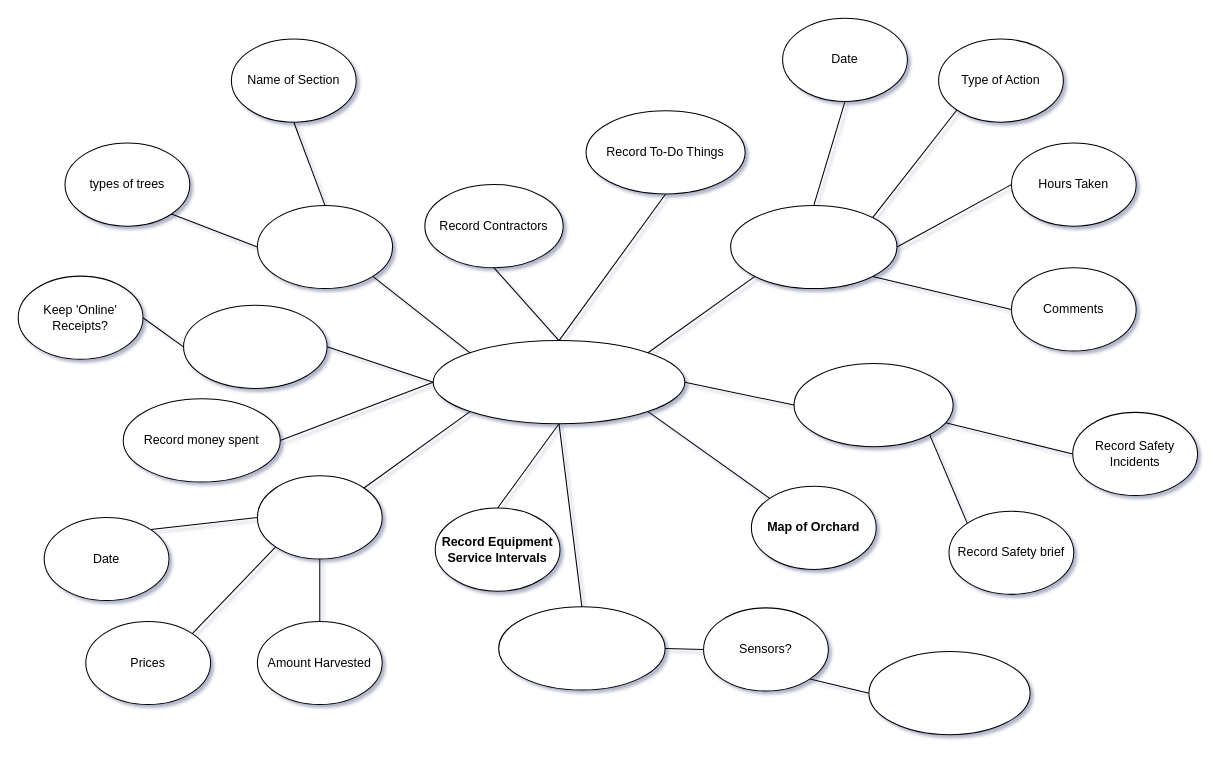
This 1222x759 diagram has some shape labels left out. The shapes that lost their labels are listed below. From the top down, each one's centre as x and y in pixels, then its label:
point (324, 246): Record Orchard Sections
point (813, 246): Record Actions
point (255, 346): Record Problems
point (558, 382): Orchard Management App
point (873, 404): Record Safety Issues
point (319, 517): Record Harvests
point (581, 648): Record Real Time Stats
point (949, 693): Temp, Humidity, Water Levels, Light Intesity
